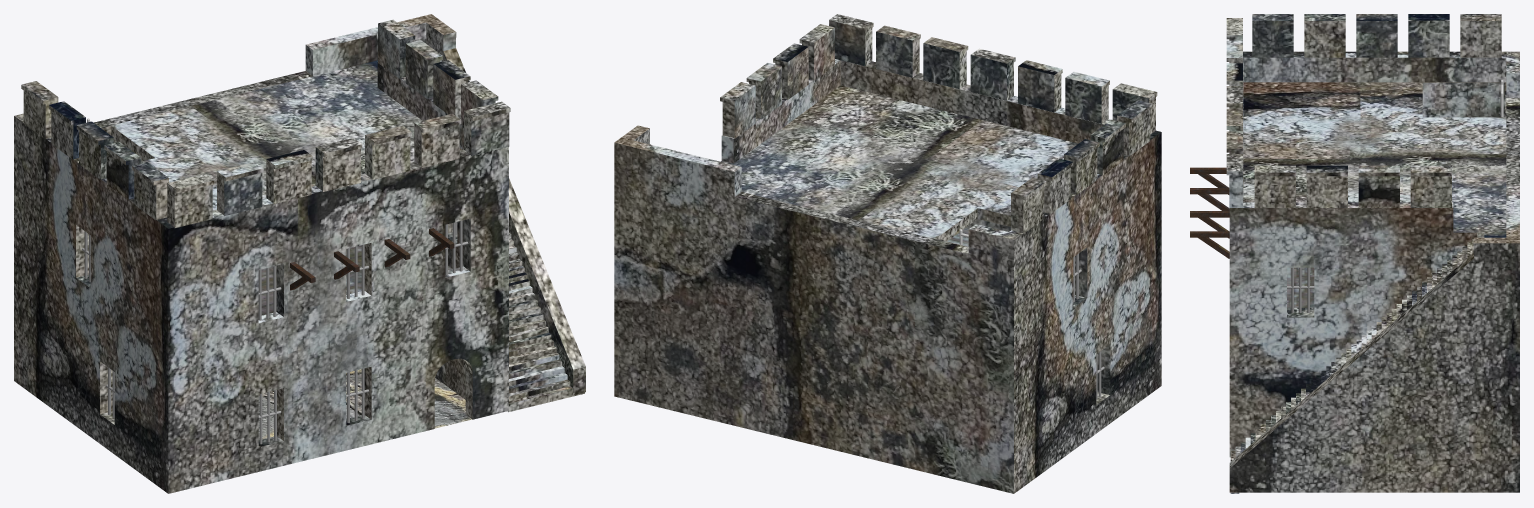
The model's file is barracks.fbx.
3 views of the same model, side by side, from view 1: azimuth 30°, elevation 25°; view 2: azimuth 150°, elevation 25°; view 3: azimuth 270°, elevation 25° (orthographic). The views are drawn at different scales.
Visible parts, largest first — view 1: Barracks, Banner Hanger 2, Banner Hanger 1; view 2: Barracks; view 3: Barracks, Banner Hanger 2, Banner Hanger 1.
Boxes of the visible parts, x1,y1,x2,y2 form: Barracks: (14, 14, 585, 493); Banner Hanger 2: (384, 228, 454, 267); Banner Hanger 1: (290, 251, 359, 290); Barracks: (614, 14, 1161, 493); Barracks: (1226, 14, 1519, 493); Banner Hanger 2: (1190, 211, 1229, 258); Banner Hanger 1: (1190, 167, 1229, 210).
Size of the model in its own units: 1658 by 1153 by 1199.
